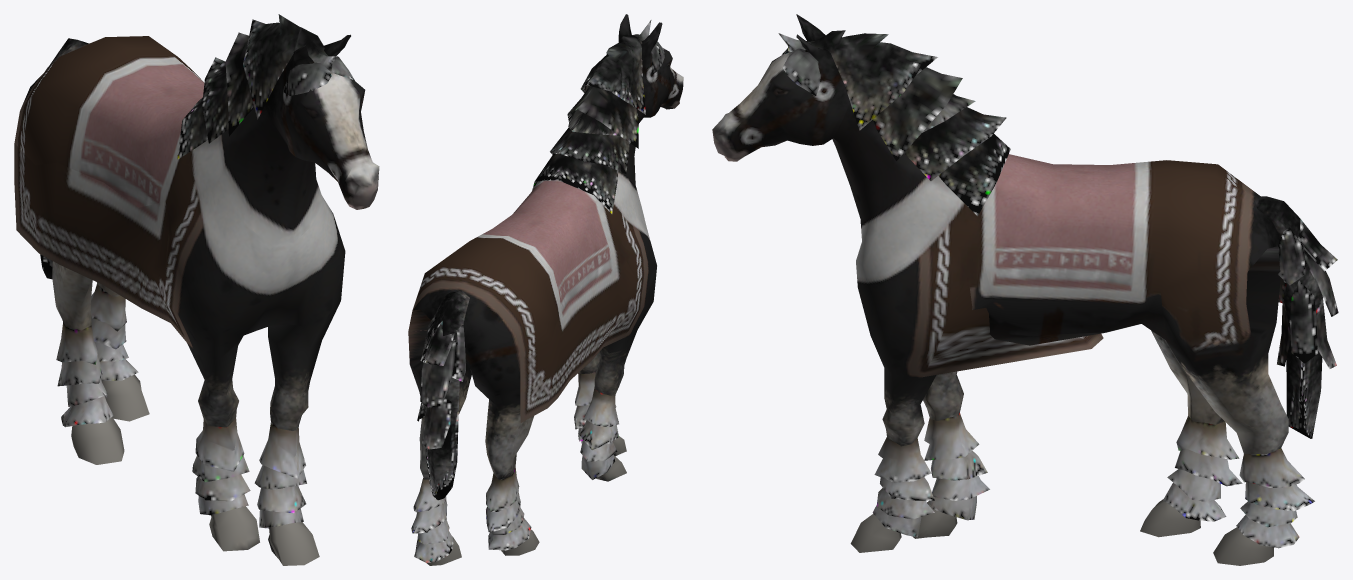
Rendered from body-mediumcavalry.glb.
The picture shows the model from 3 angles, left to right: view 1: azimuth 30°, elevation 25°; view 2: azimuth 150°, elevation 25°; view 3: azimuth 270°, elevation 25°; orthographic projection. The views are drawn at different scales.
Bounding box in the file's own units: 0.8098 × 2.51 × 2.75.
1 material, 1 textured.
